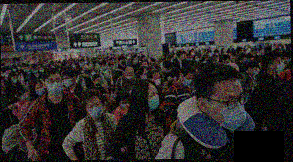with_mask: (208, 90, 247, 130), (46, 77, 63, 96), (147, 89, 161, 111), (86, 101, 104, 118), (274, 58, 286, 74), (181, 76, 194, 87), (35, 84, 46, 96), (152, 75, 163, 86), (63, 76, 73, 88), (119, 100, 129, 109), (142, 70, 149, 81), (83, 67, 91, 76), (125, 73, 134, 81), (251, 67, 259, 76), (11, 76, 18, 85), (94, 80, 103, 87), (165, 67, 173, 74), (32, 67, 39, 74), (120, 59, 127, 66), (133, 58, 139, 65), (20, 94, 26, 101), (39, 67, 45, 73), (91, 71, 97, 77), (195, 57, 201, 63), (103, 64, 108, 70), (26, 67, 31, 72), (192, 51, 197, 56), (17, 66, 22, 71), (13, 68, 17, 72)
